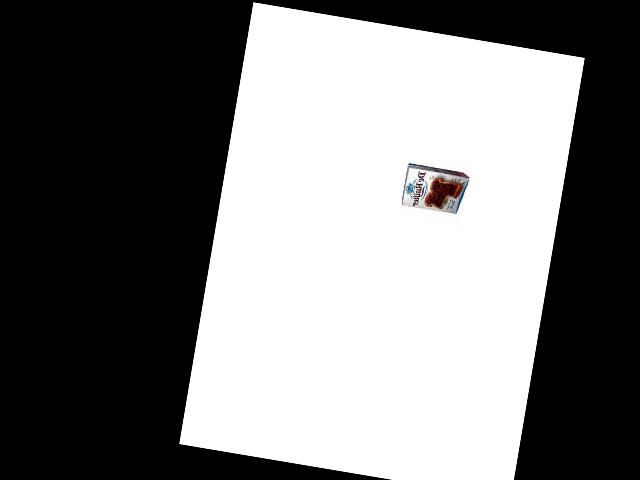chocolate: (396, 156, 469, 220)
